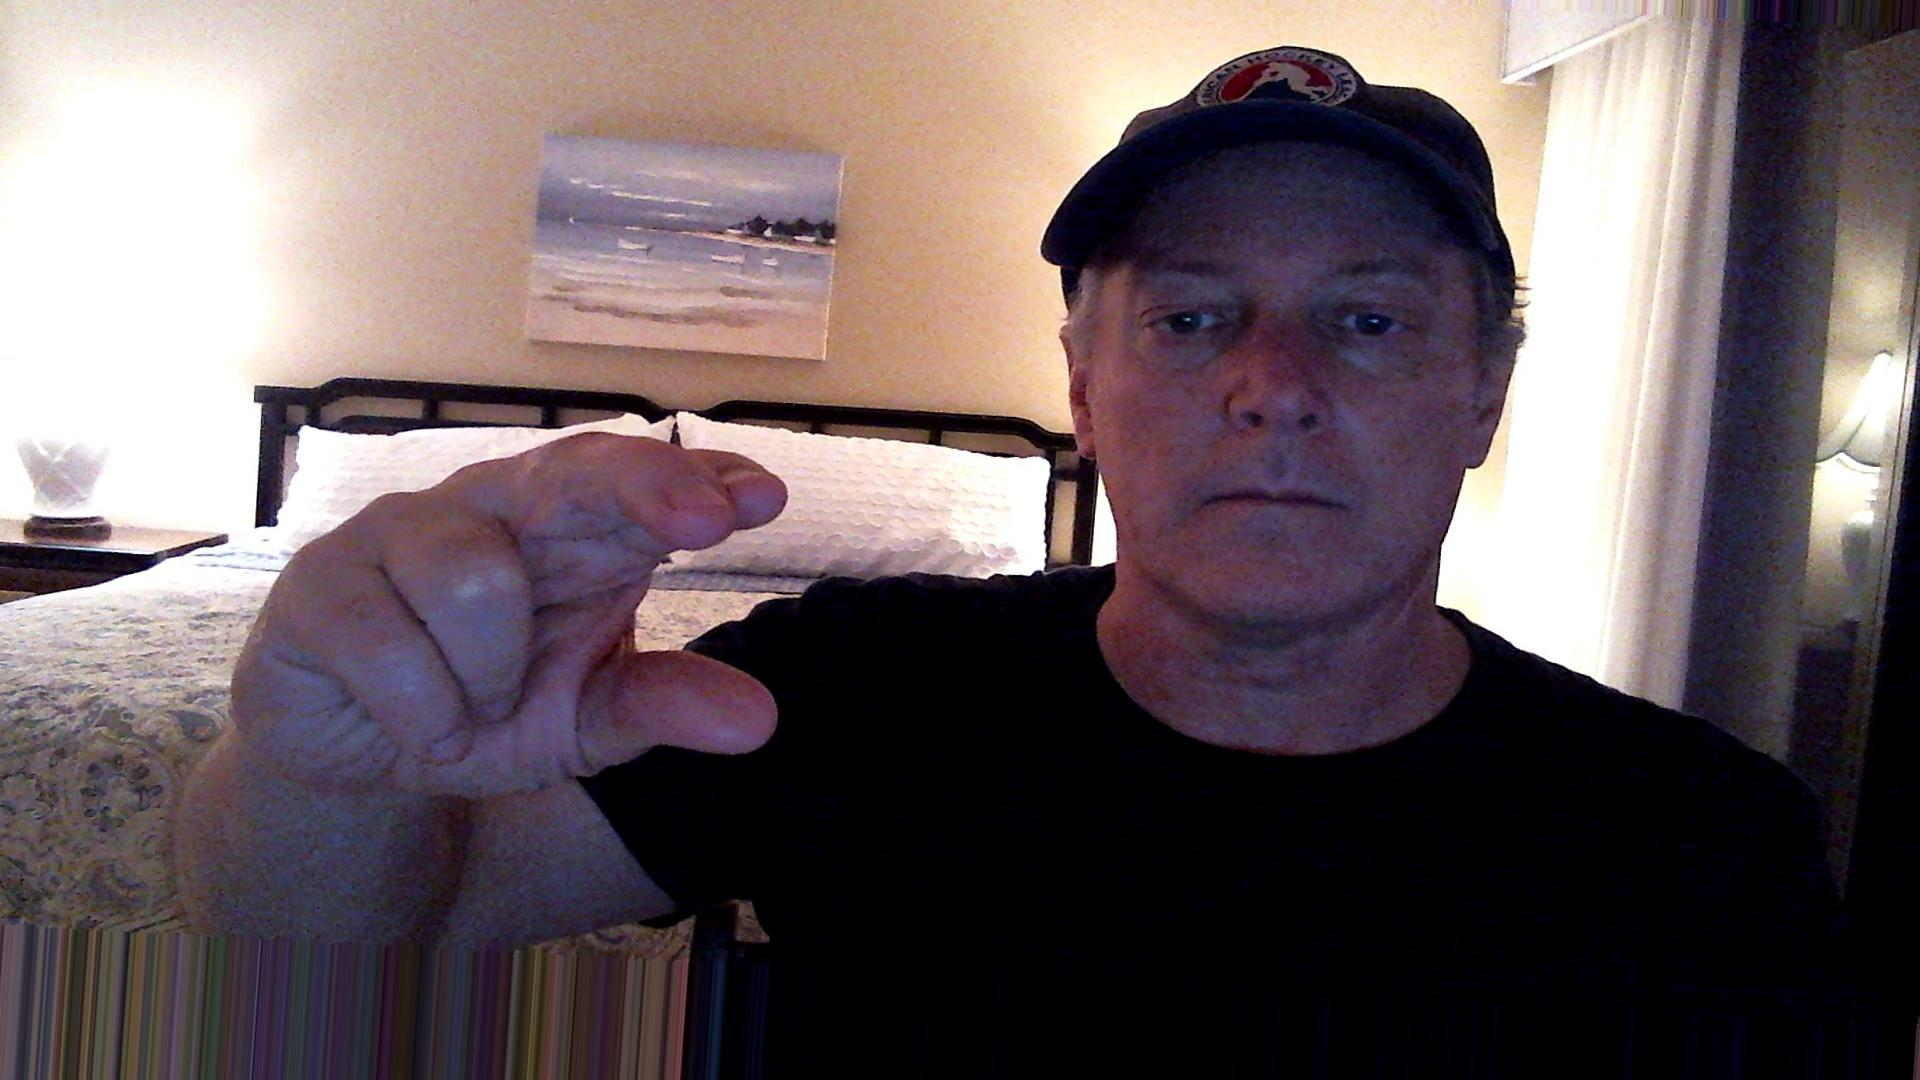No: (203, 425, 827, 806)
